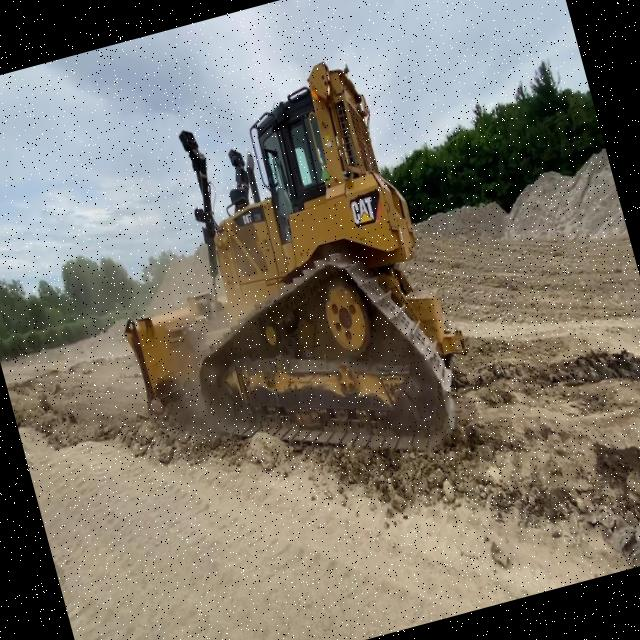Bulldozer: (52, 32, 516, 558)
